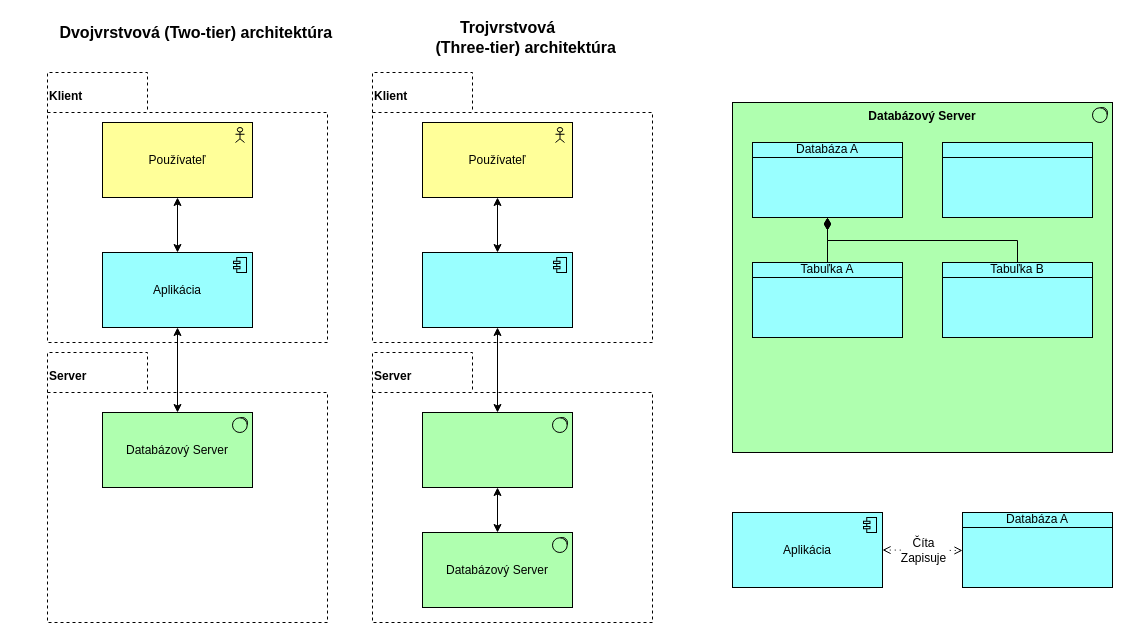
Some shapes in this 1130 by 640 pixel diagram are drawn without their labels. Here are the shapes that lost their labels. From the top down, the centre of each, then its label:
At [1017,180]: "Databáza B".
At [497,290]: "Klientská aplikácia".
At [497,450]: "Aplikačný Server".
